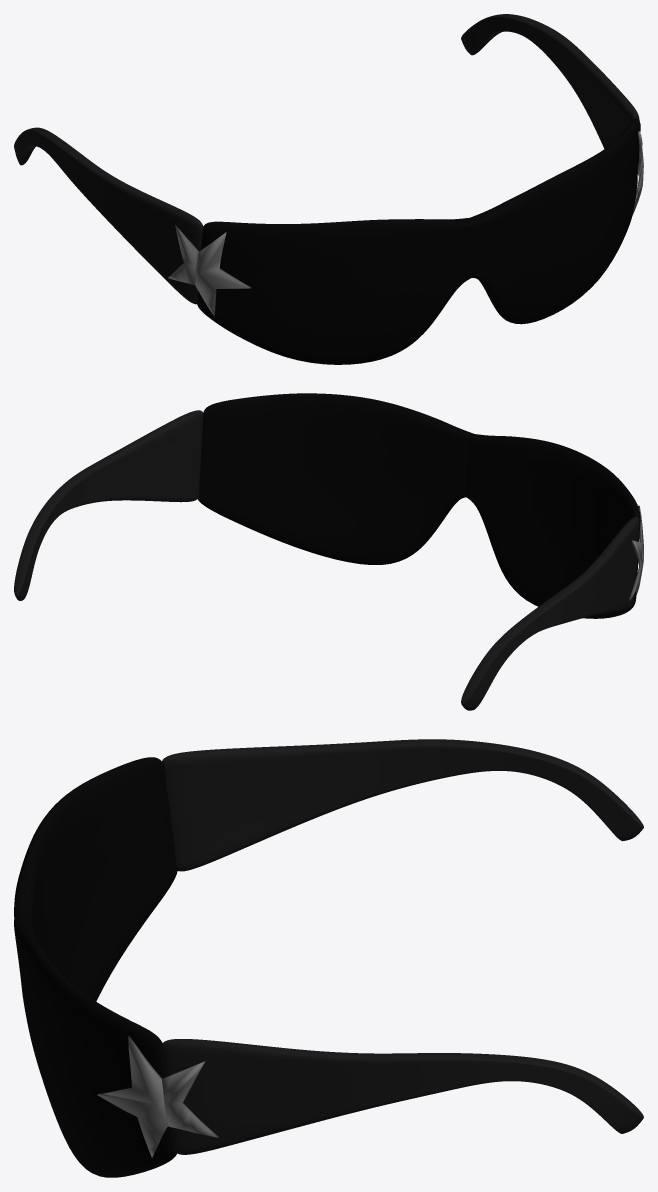
Rendered from prada_vintage_star_glasses.glb.
The picture shows the model from 3 angles, top to bottom: view 1: azimuth 30°, elevation 25°; view 2: azimuth 150°, elevation 25°; view 3: azimuth 270°, elevation 25°; orthographic projection. The views are drawn at different scales.
Parts seen in each view (by area): view 1: glasses_0; view 2: glasses_0; view 3: glasses_0.
Part boxes in pixels (bbox=[...]): glasses_0: bbox=[14, 14, 643, 364]; glasses_0: bbox=[14, 393, 643, 710]; glasses_0: bbox=[14, 739, 643, 1177].
Size of the model in its own units: 2.95 by 0.8869 by 2.45.
Materials: 4 (4 with a texture image).
